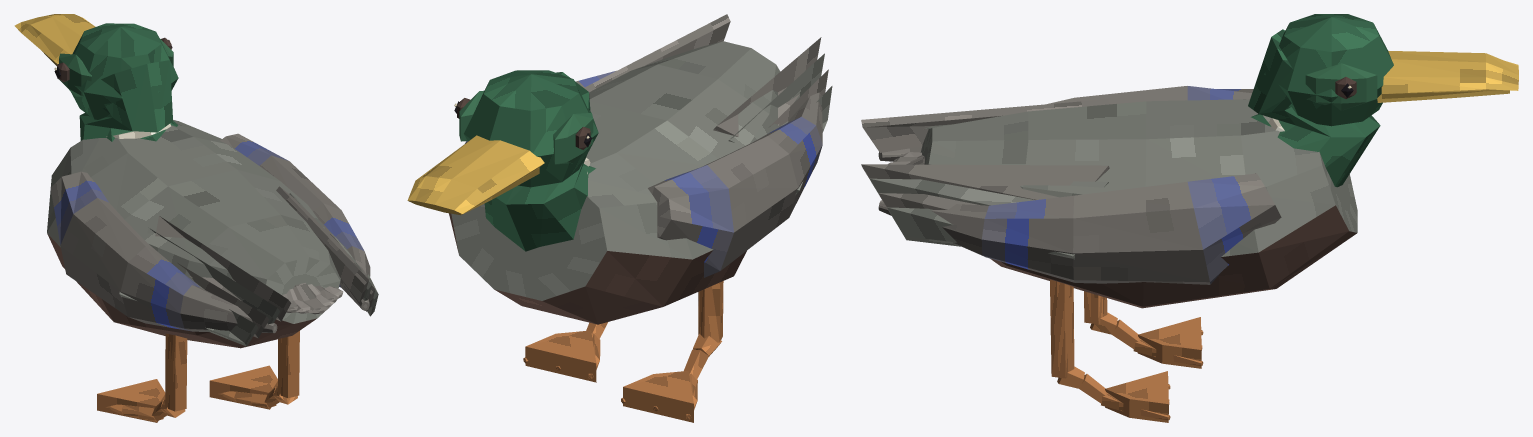
File: mon_duck.glb
The picture shows the model from 3 angles, left to right: view 1: azimuth 30°, elevation 25°; view 2: azimuth 150°, elevation 25°; view 3: azimuth 270°, elevation 25°; orthographic projection. The views are drawn at different scales.
Visible parts, largest first — view 1: closed_body; view 2: closed_body; view 3: closed_body.
Part boxes in pixels (bbox=[...]): closed_body: bbox=[14, 14, 378, 422]; closed_body: bbox=[407, 14, 832, 422]; closed_body: bbox=[861, 14, 1518, 422].
Size of the model in its own units: 0.1785 by 0.2345 by 0.3848.
1 material, 1 textured.
